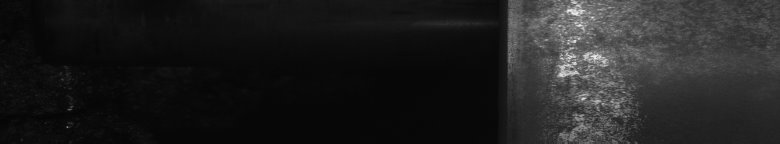kb: (534, 4, 638, 136)
